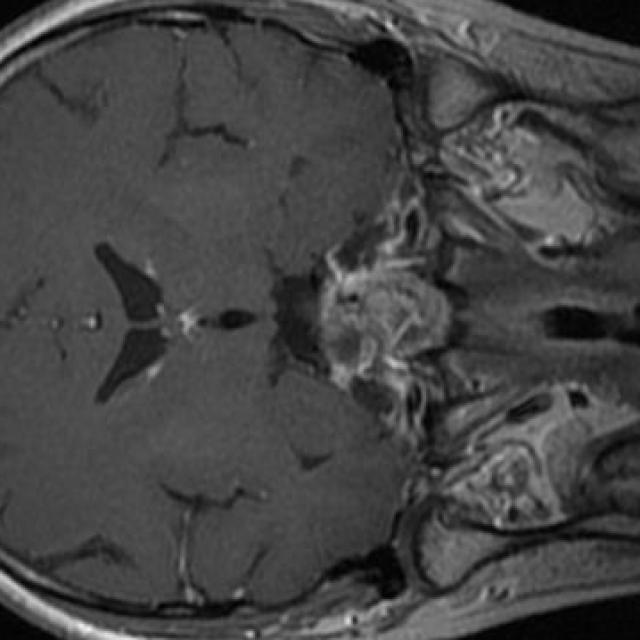pituitary: (321, 271, 453, 374)
